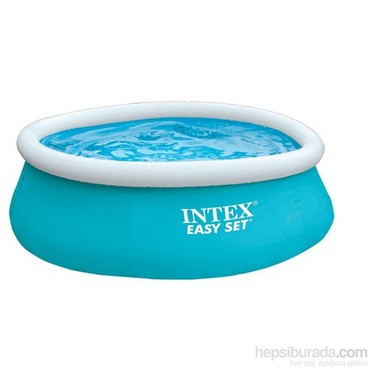havuz: (11, 100, 335, 279)
